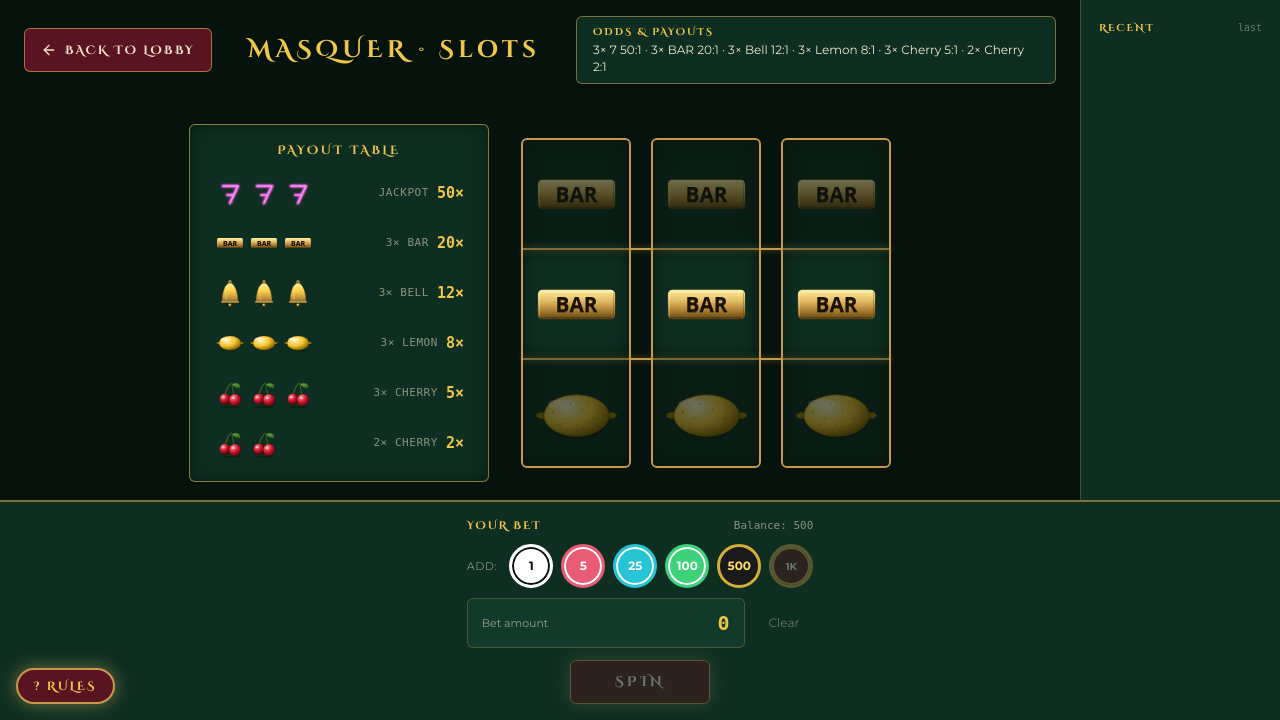
Test: <SlotsPage /> sticky bet across spins › CLEAR zeros the chip stack and disables SPIN
Click the button named "add 25 chips to bet". click: (635, 566)
box: 613,544 -> 657,588
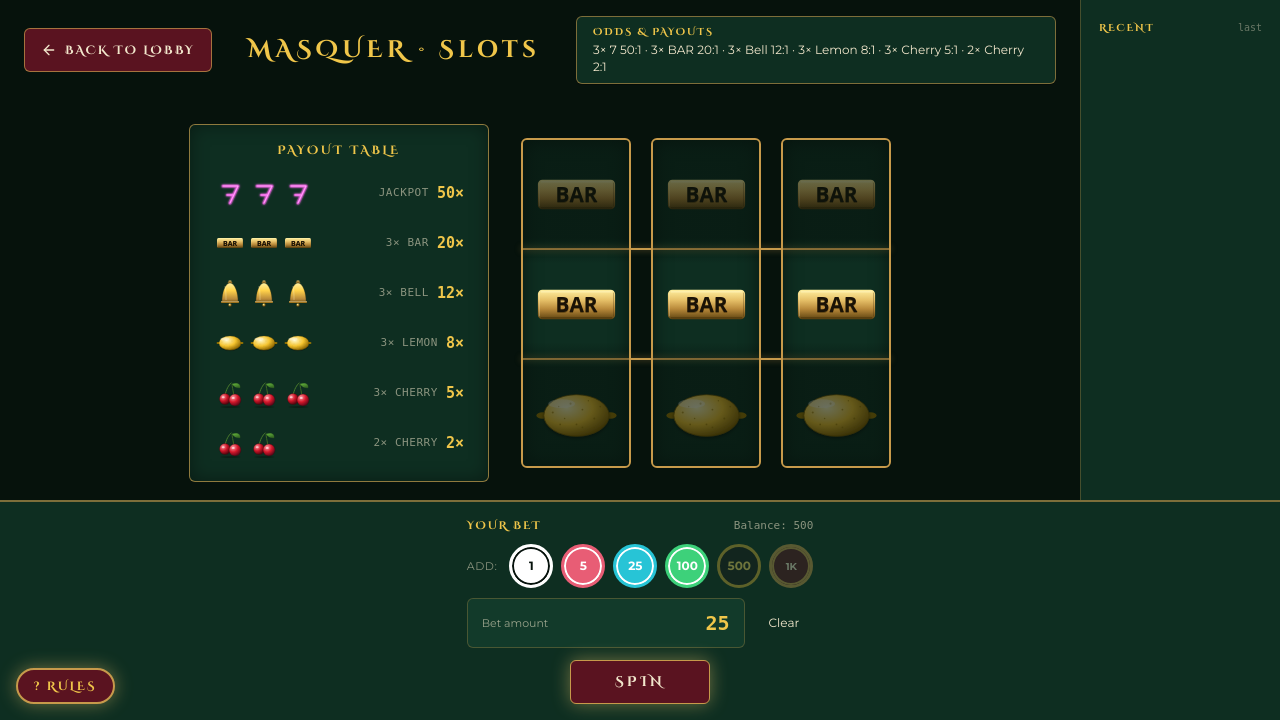
Result: the button with aria-label "spin the reels" is enabled at 570,660 -> 710,704
Click the button "Clear". click: (784, 623)
box: 755,605 -> 813,641
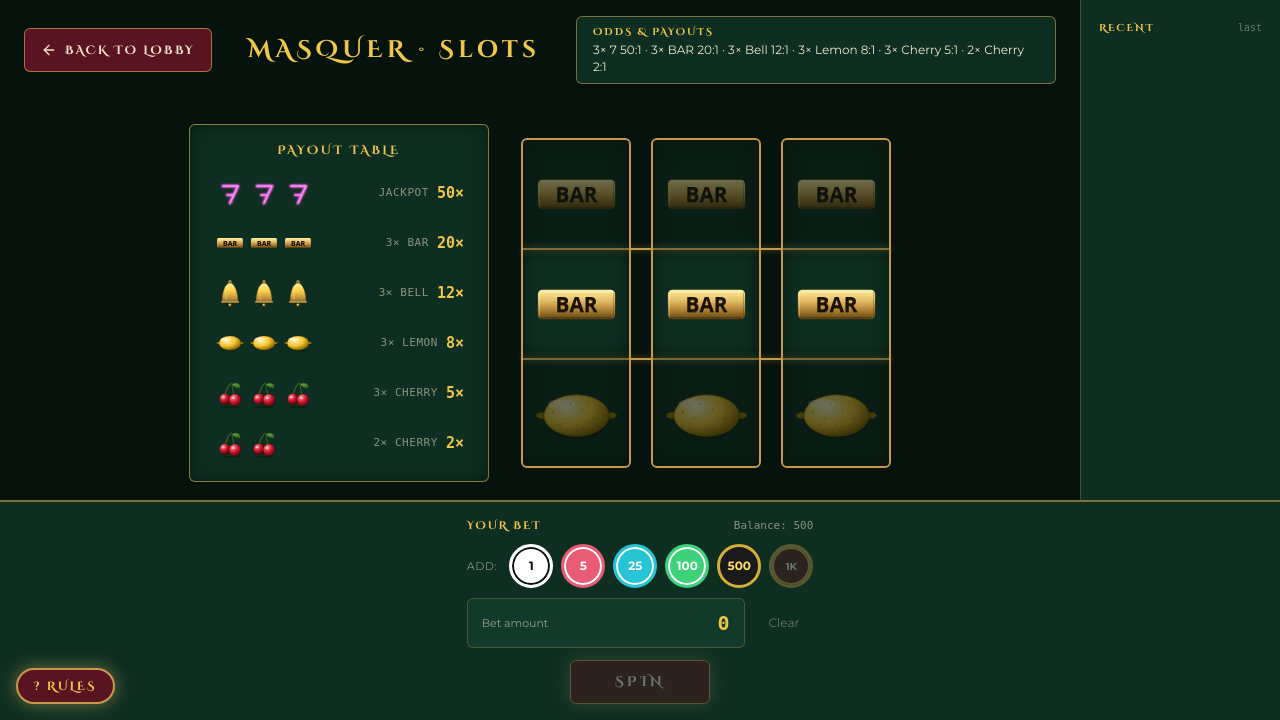
Result: the button with aria-label "spin the reels" is disabled at 570,660 -> 710,704
